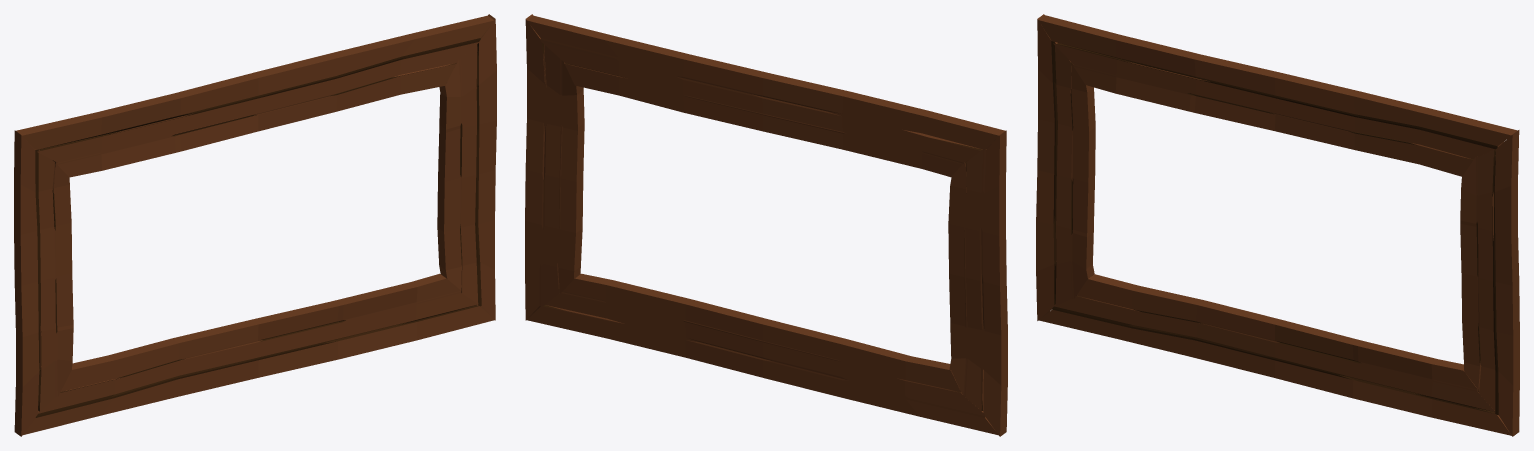
File: Frame.fbx
3 views of the same model, side by side, from view 1: azimuth 30°, elevation 25°; view 2: azimuth 150°, elevation 25°; view 3: azimuth 330°, elevation 25° (orthographic).
Visible parts, largest first — view 1: Cube.006, Cube.001, Cube.002, Cube.005; view 2: Cube.006, Cube.001, Cube.002, Cube.005; view 3: Cube.006, Cube.001, Cube.005, Cube.002.
Part boxes in pixels (box(x1,y1,x2,y2)): Cube.006: box(16, 15, 494, 177); Cube.001: box(23, 273, 494, 434); Cube.002: box(14, 130, 73, 436); Cube.005: box(437, 14, 496, 320); Cube.006: box(526, 15, 1005, 177); Cube.001: box(527, 273, 998, 435); Cube.002: box(948, 130, 1007, 436); Cube.005: box(525, 14, 584, 320); Cube.006: box(1038, 15, 1517, 176); Cube.001: box(1039, 274, 1511, 435); Cube.005: box(1460, 130, 1519, 436); Cube.002: box(1036, 14, 1095, 320).
Bounding box in the file's own units: 1200 × 731 × 37.83.
